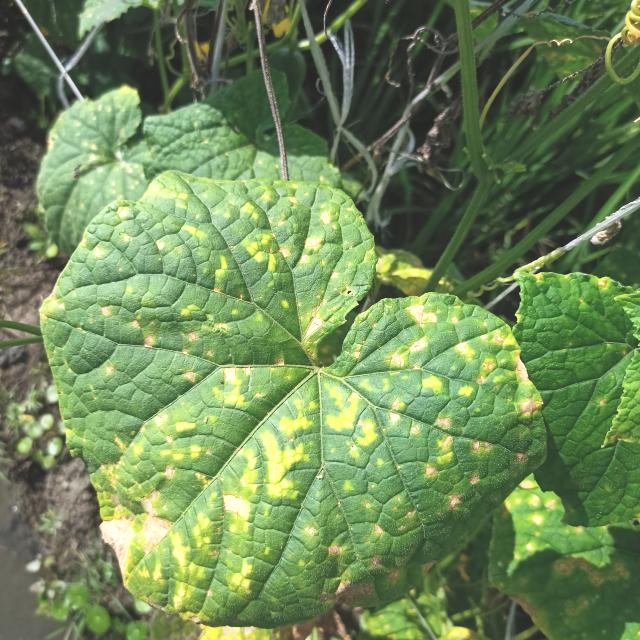disease_cucumber: (69, 184, 544, 610)
